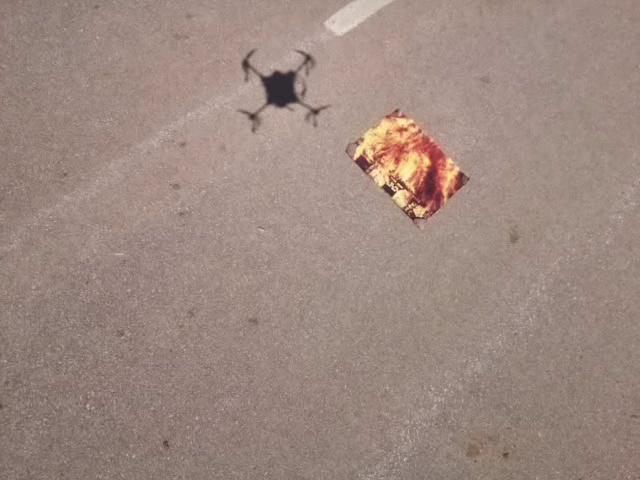fire-poster: (343, 106, 471, 230)
